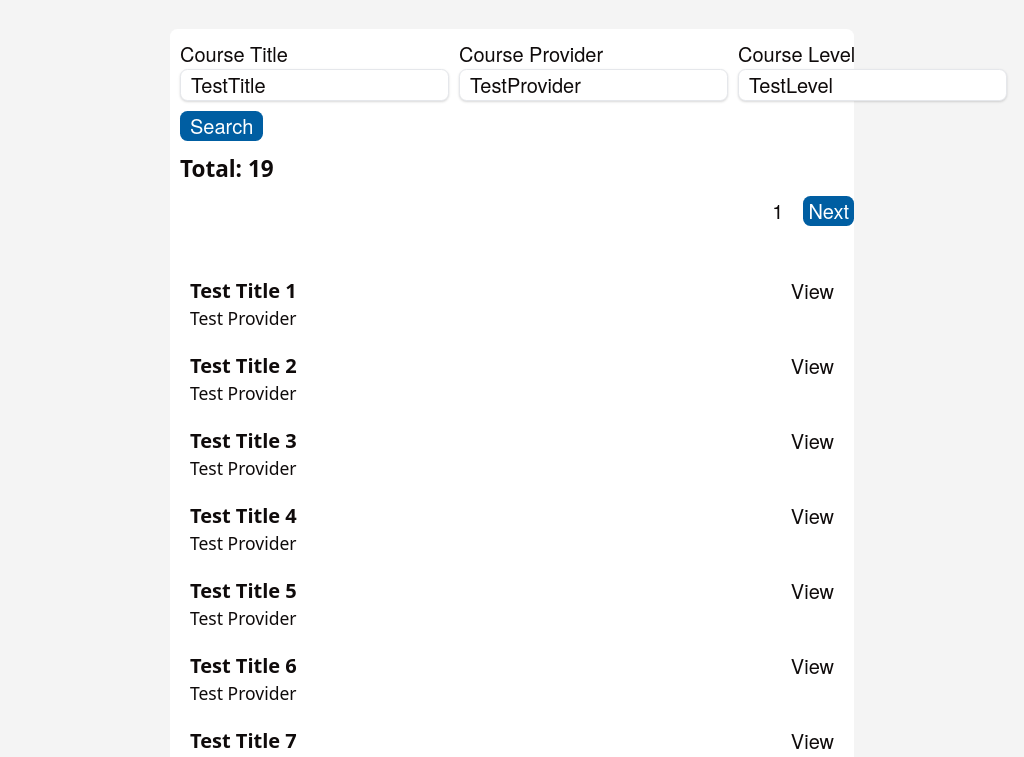
Test: Filter-Search › renders navigates back when back is clicked
Click the text "Next" at (829, 211), box left=803, top=196, right=854, bottom=226
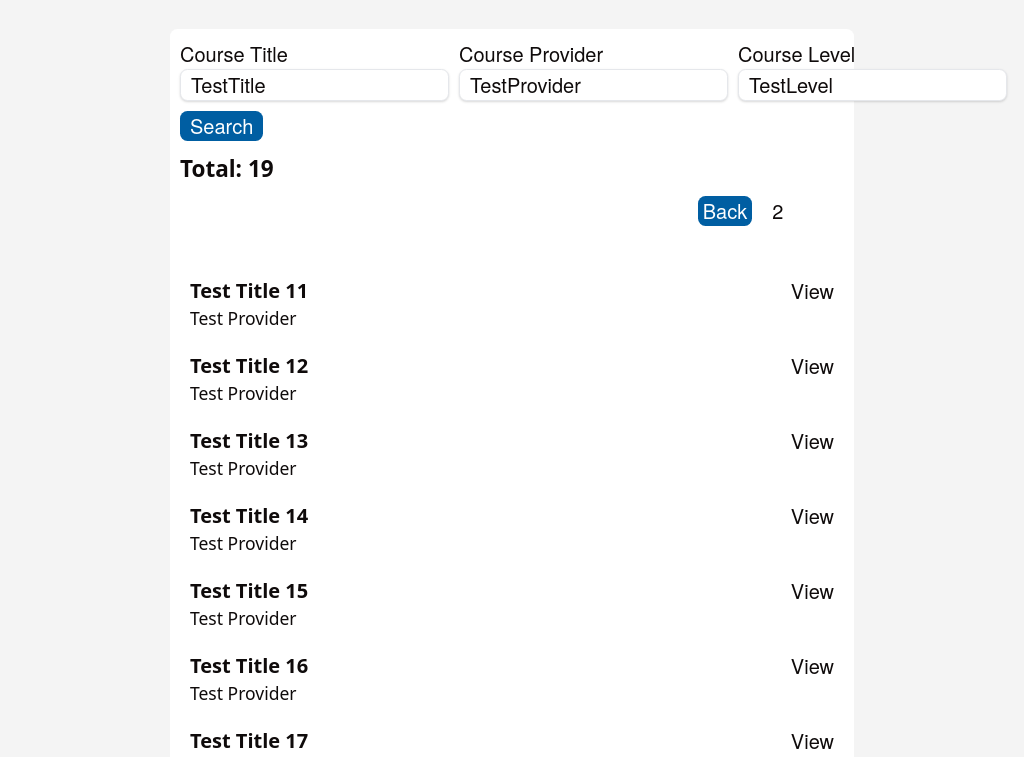
Click the text "Back" at (725, 211), box left=698, top=196, right=752, bottom=226
(page scrolled)
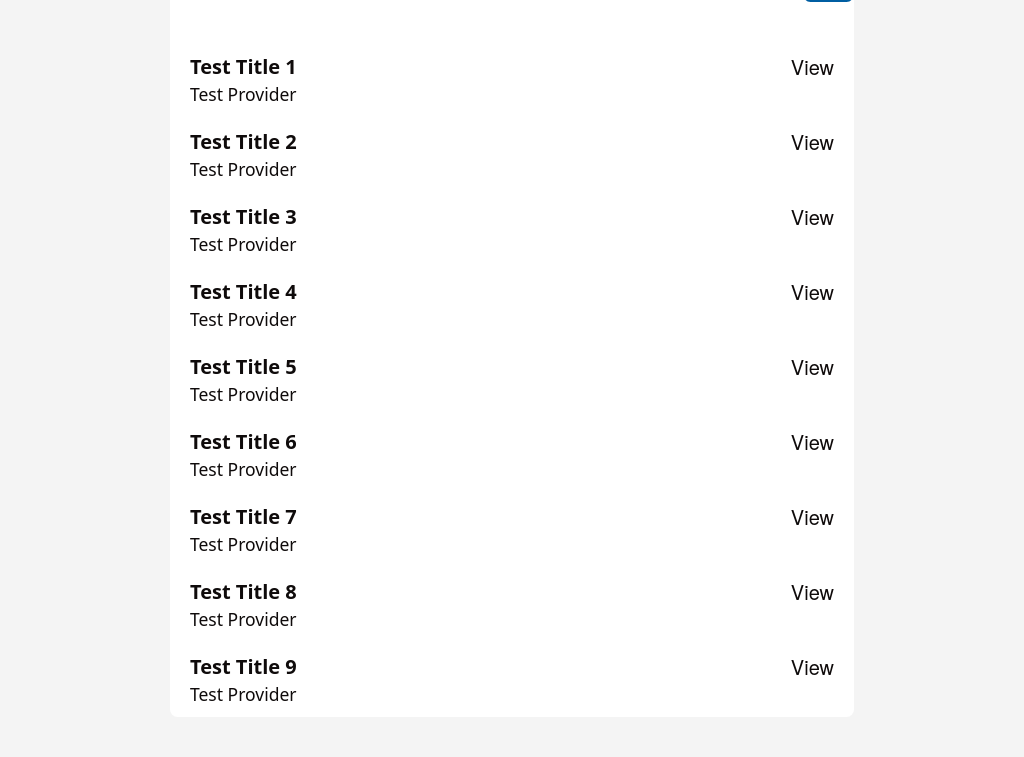
Expected: the text "Test Title 1" is shown, left=190, top=52, right=297, bottom=82
Result: the text "Test Title 9" is shown at left=190, top=652, right=297, bottom=682
